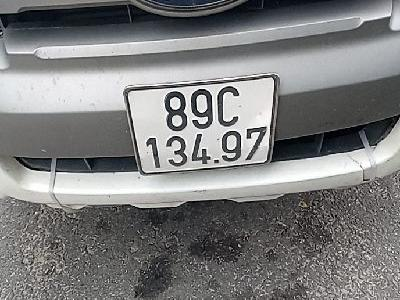lisence: (122, 73, 281, 177)
